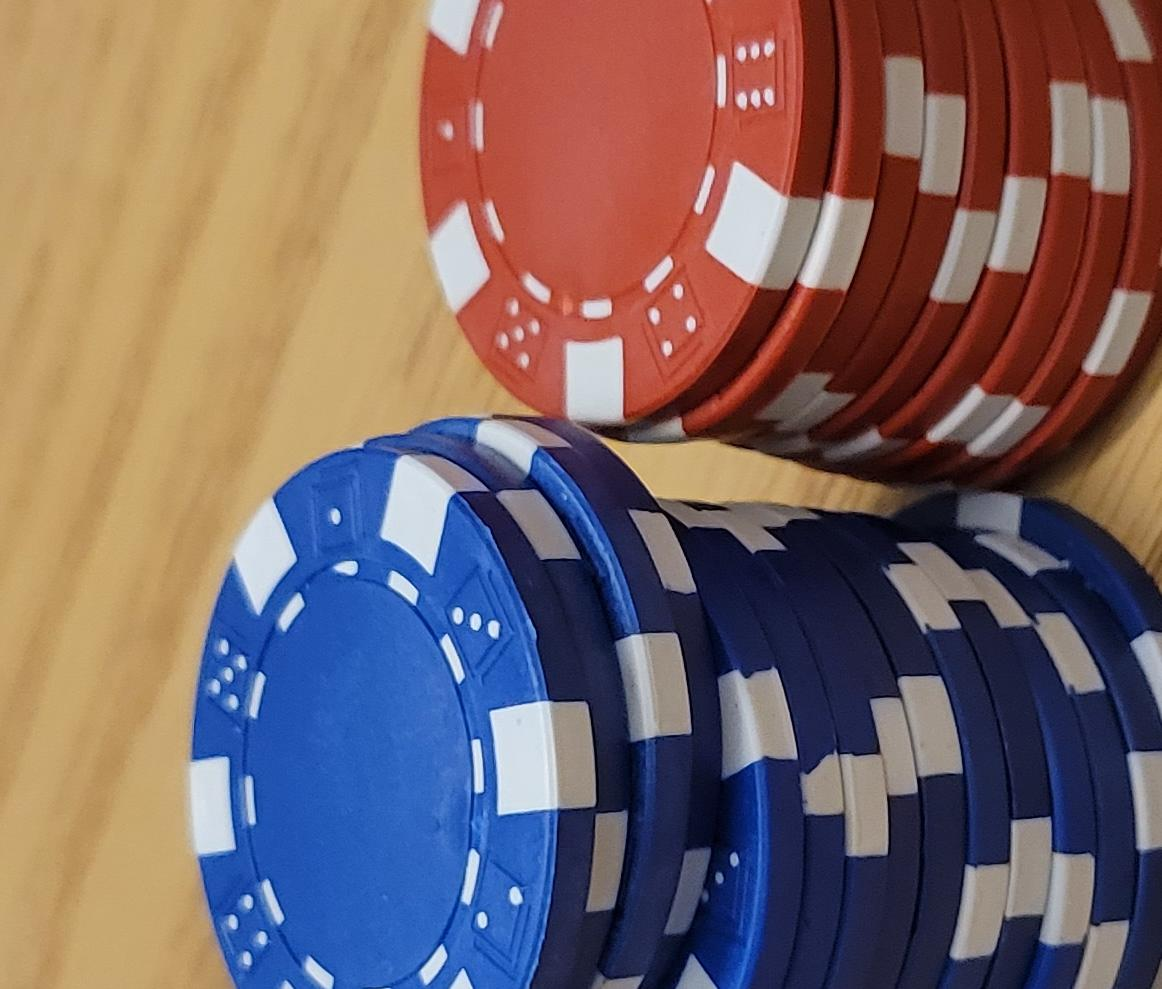Chip: (1, 308, 572, 989)
